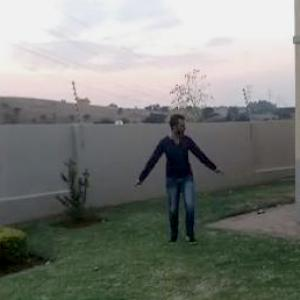land: (128, 116, 235, 262)
